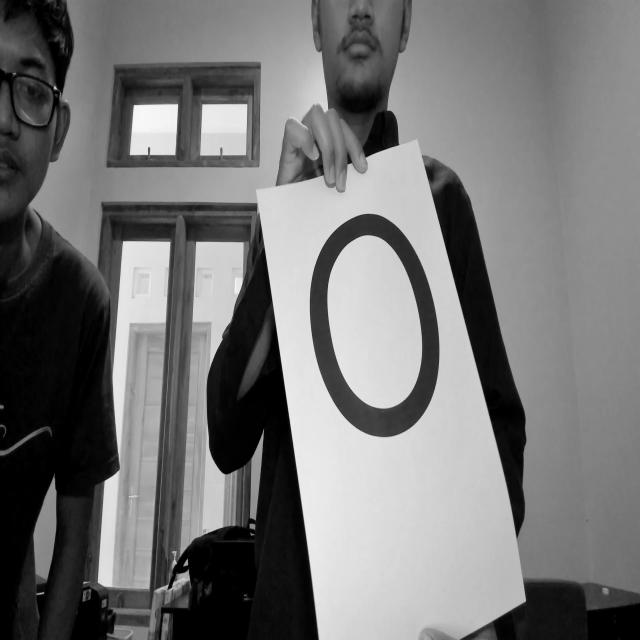o: (294, 203, 452, 456)
